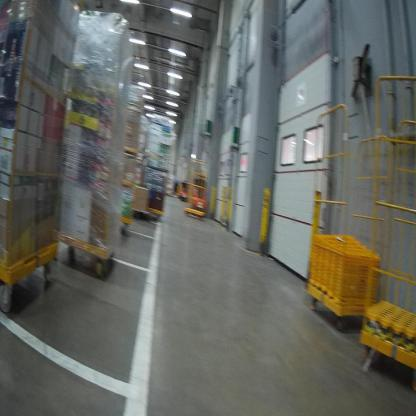pallet_truck: (190, 167, 210, 218), (177, 177, 189, 201)
